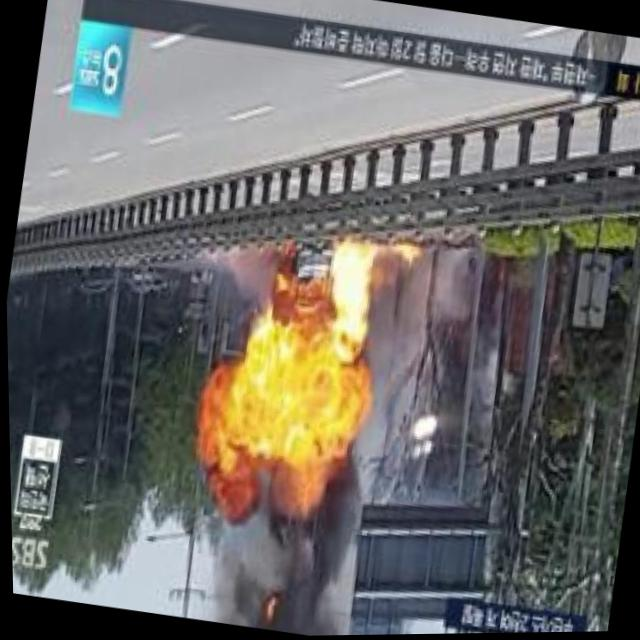Fire: (198, 231, 394, 475)
